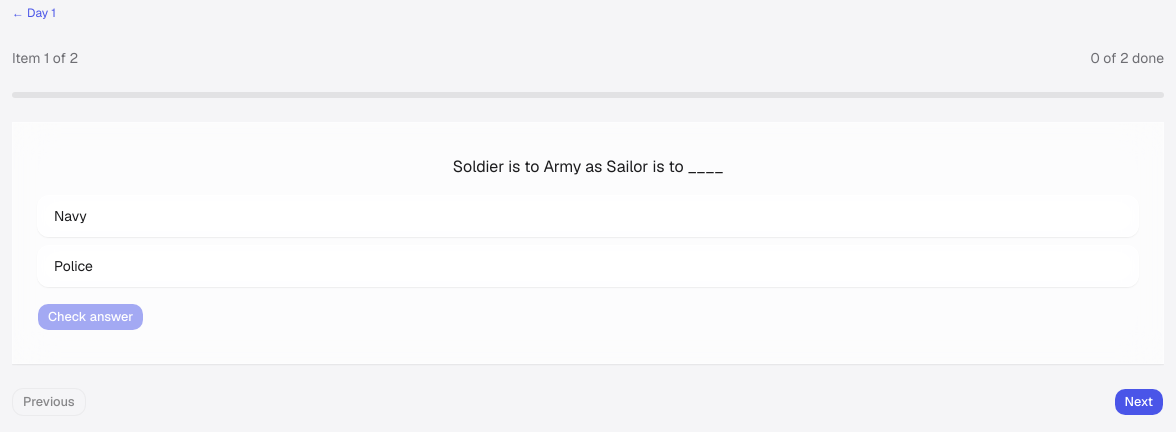
Test: BankPracticeRunner (MCQ) › explains a wrong answer in text, not colour alone
Click the button "Police". click: (73, 266)
box: x1=37 y1=245 x2=1139 y2=287
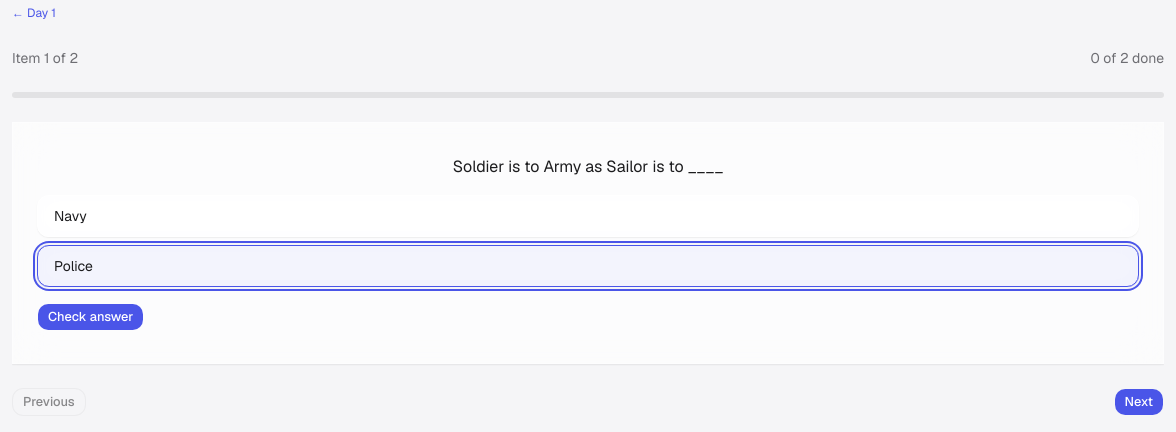
Click the button "Check answer". click: (91, 317)
box: x1=37 y1=303 x2=144 y2=331
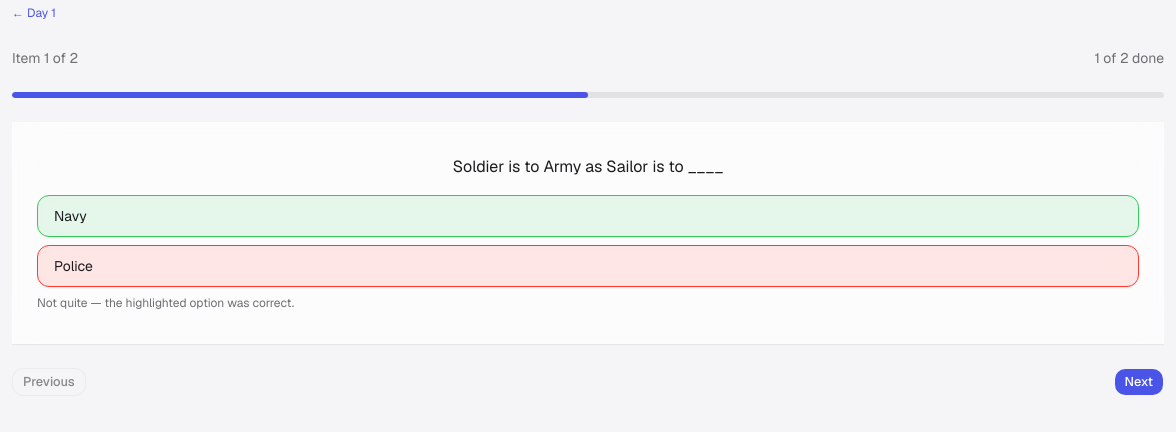
Result: the text "Not quite — the highlighted option was correct." is shown at x1=37 y1=295 x2=294 y2=311
